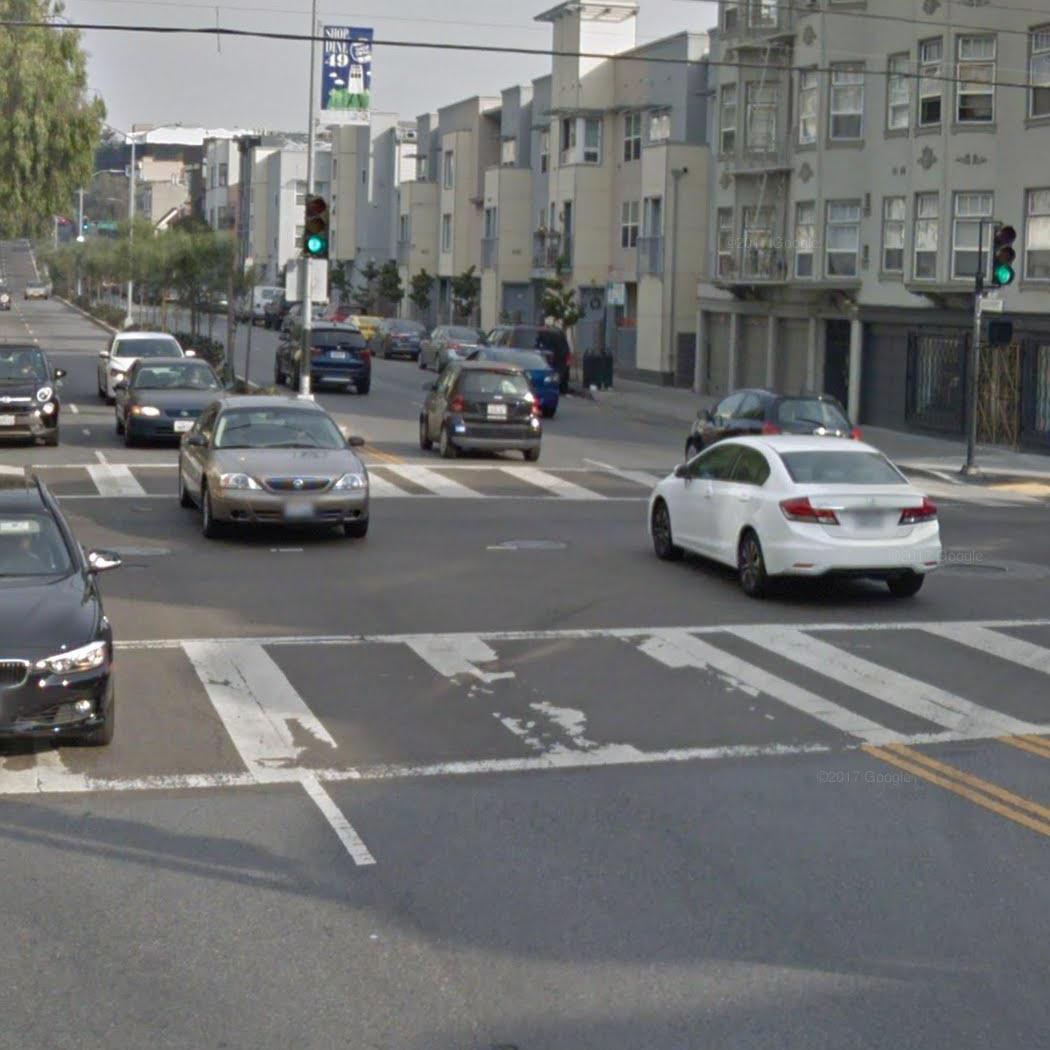2 Hour Parking: (605, 281, 627, 307)
